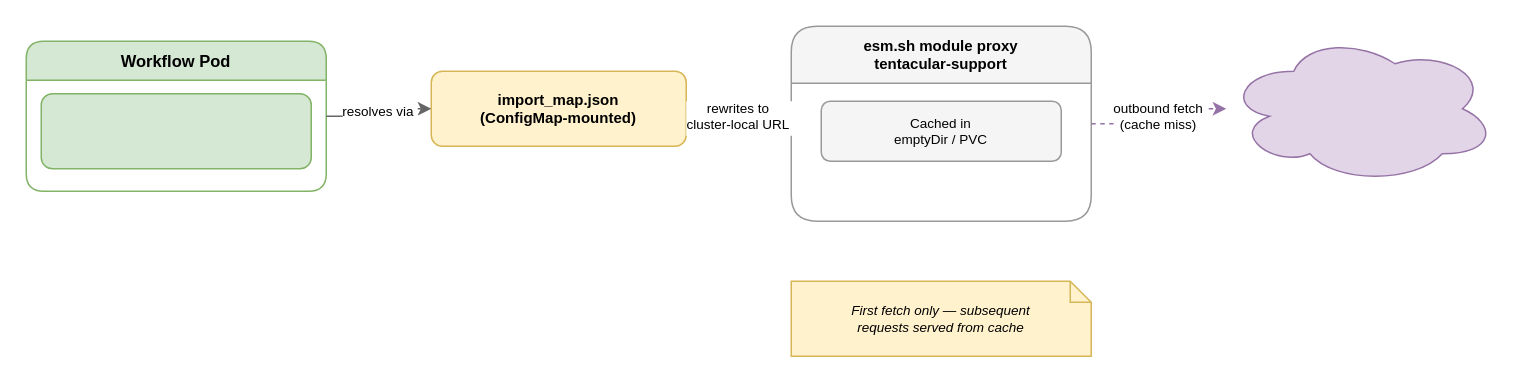
Some shapes in this 1523 by 383 pixel diagram are drawn without their labels. Here are the shapes that lost their labels. From the top down, the centre of each, then its label:
(1360,108): jsr.io registry.npmjs.org
(175,130): Deno import("jsr:@db/postgres")
